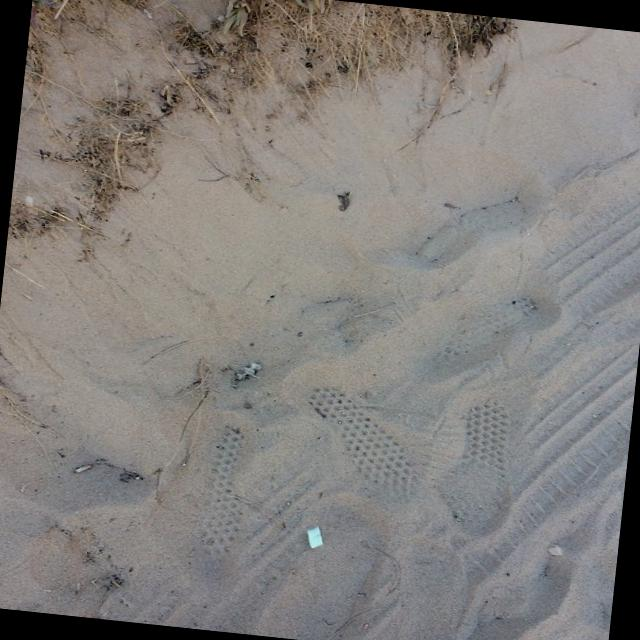Trash: (292, 514, 328, 552)
